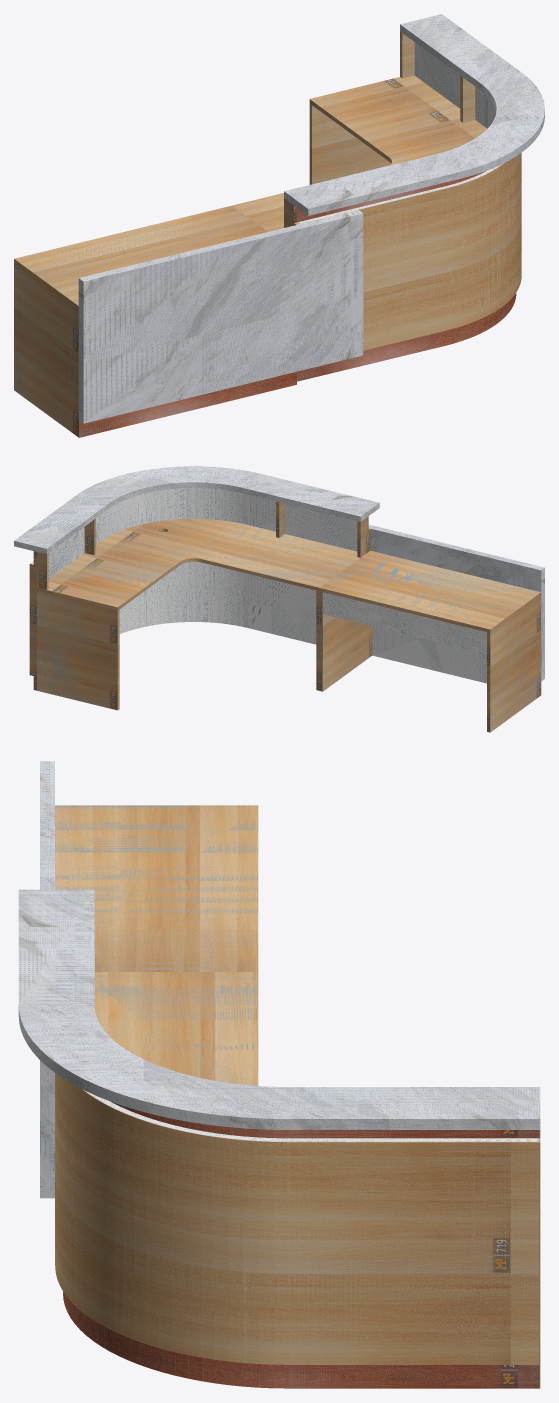
The picture shows the model from 3 angles, top to bottom: view 1: azimuth 30°, elevation 25°; view 2: azimuth 150°, elevation 25°; view 3: azimuth 270°, elevation 25°; orthographic projection. The views are drawn at different scales.
Parts seen in each view (by area): view 1: group_0, group_4, frt.dwg, group_9, group_1, Component_1, group_10, group_7, group_19, group_6, group_15, group_17 (+2 smaller); view 2: group_6, group_9, group_1, frt.dwg, group_10, Component_1, group_0, Component_9 (×3), group_2, Component_2, group_11, group_3 (+3 smaller); view 3: group_4, frt.dwg, group_1, group_9, group_7, group_0, group_15, Component_3.
Part boxes in pixels (box(x1,y1,x2,y2)): group_0: box(78, 210, 363, 423); group_4: box(296, 153, 521, 350); frt.dwg: box(284, 14, 544, 215); group_9: box(232, 75, 486, 231); group_1: box(14, 205, 267, 309); Component_1: box(14, 263, 78, 437); group_10: box(309, 104, 390, 184); group_7: box(297, 293, 516, 381); group_19: box(78, 371, 296, 437); group_6: box(414, 42, 496, 128); group_15: box(294, 171, 485, 222); group_17: box(460, 75, 475, 122); group_6: box(48, 488, 357, 644); group_9: box(37, 519, 359, 610); group_1: box(319, 550, 541, 632); frt.dwg: box(14, 466, 379, 554); group_10: box(37, 591, 119, 710); Component_1: box(487, 596, 541, 732); group_0: box(368, 524, 544, 681); Component_9 (×3): box(323, 592, 486, 653); group_2: box(372, 626, 486, 683); Component_2: box(319, 591, 372, 691); group_11: box(29, 551, 36, 690); group_3: box(357, 517, 370, 557); group_4: box(55, 1073, 539, 1364); frt.dwg: box(18, 889, 540, 1129); group_1: box(55, 805, 258, 971); group_9: box(94, 972, 258, 1085); group_7: box(63, 1292, 539, 1388); group_0: box(40, 761, 54, 1198); group_15: box(111, 1102, 539, 1138); Component_3: box(86, 1091, 539, 1141).
Size of the model in its own units: 122 by 67.68 by 41.34.
Materials: 7 (4 with a texture image).
